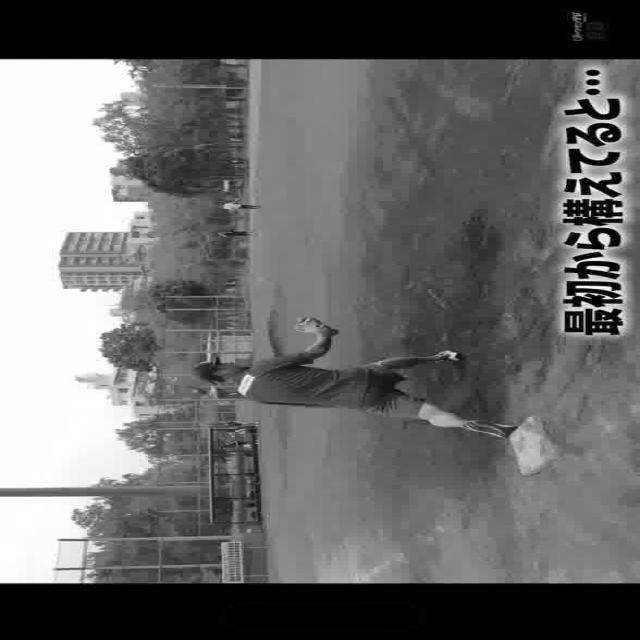base: (511, 414, 563, 473)
baseball_glove: (292, 316, 338, 334)
shoe: (458, 418, 522, 434), (429, 347, 461, 361)
